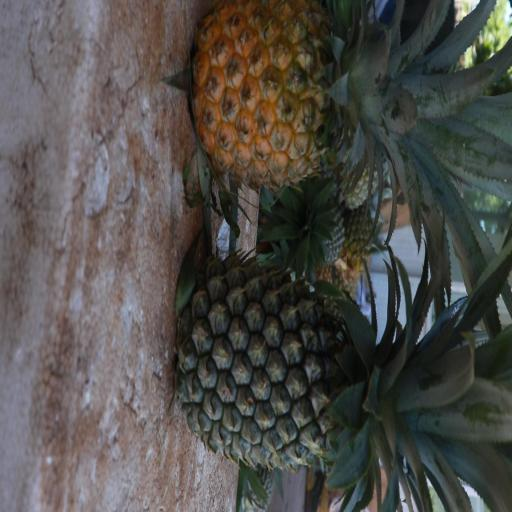Pineapple - v8 v1: (193, 11, 475, 191)
